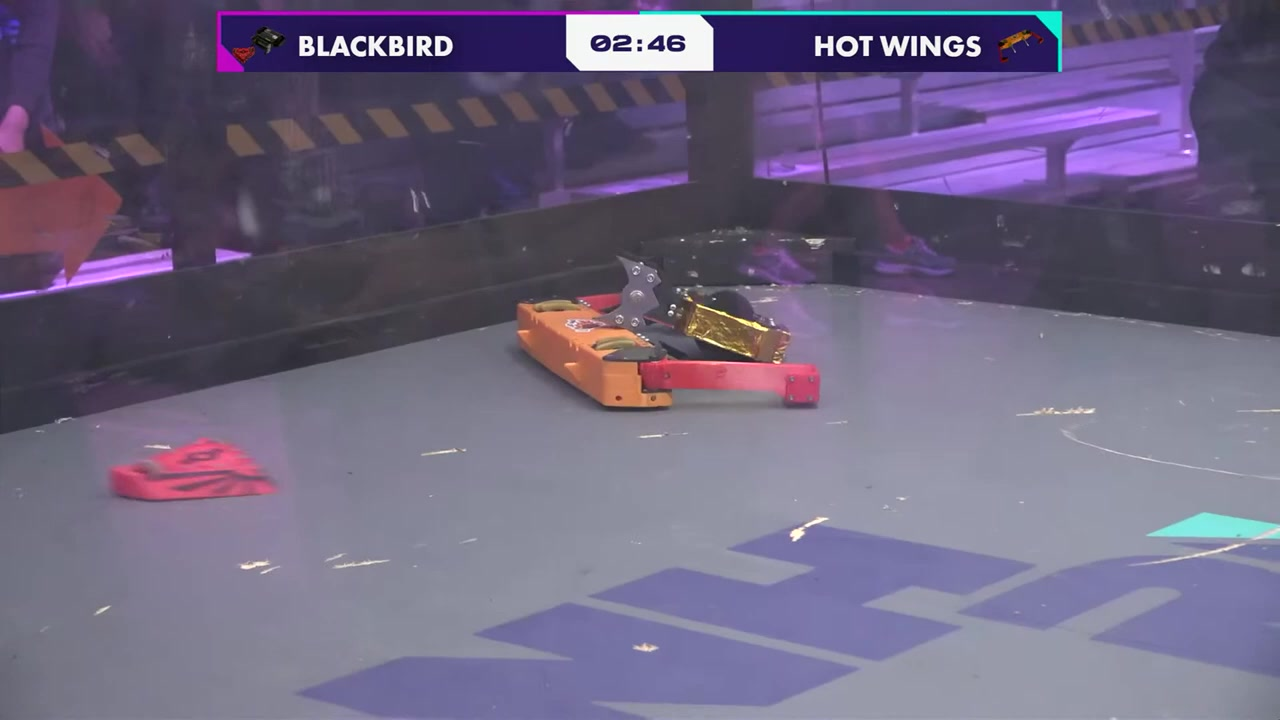combatbot: (511, 255, 814, 412), (653, 287, 793, 367)
minibot: (105, 434, 283, 505)
